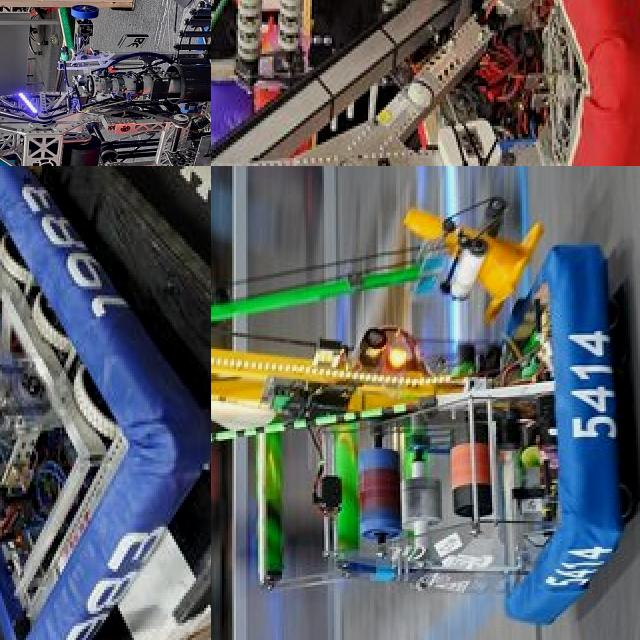FRC-Robots: (211, 186, 629, 638), (0, 166, 211, 640), (211, 0, 640, 166), (0, 0, 211, 166)
